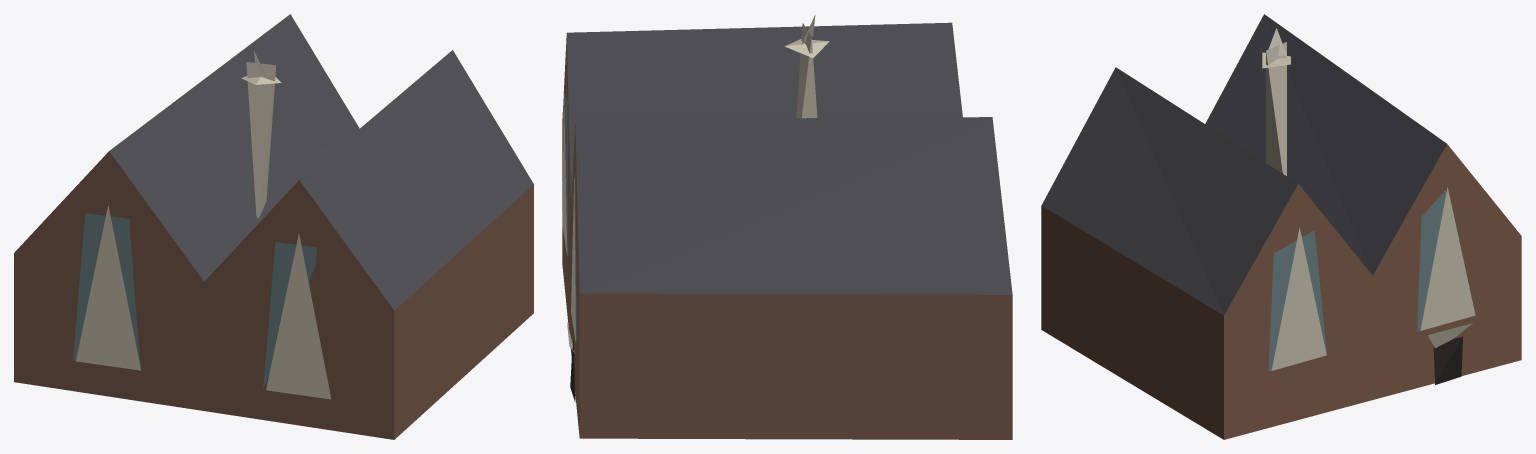
File: sint-olofskapel.lod2.glb
3 views of the same model, side by side, from view 1: azimuth 30°, elevation 25°; view 2: azimuth 150°, elevation 25°; view 3: azimuth 270°, elevation 25° (orthographic). The views are drawn at different scales.
Visible parts, largest first — view 1: lod2; view 2: lod2; view 3: lod2.
Part boxes in pixels (box(x1,y1,x2,y2)): lod2: box(14, 14, 533, 439); lod2: box(562, 15, 1012, 439); lod2: box(1041, 14, 1521, 439).
Size of the model in its own units: 33.94 by 21.5 by 31.85.
